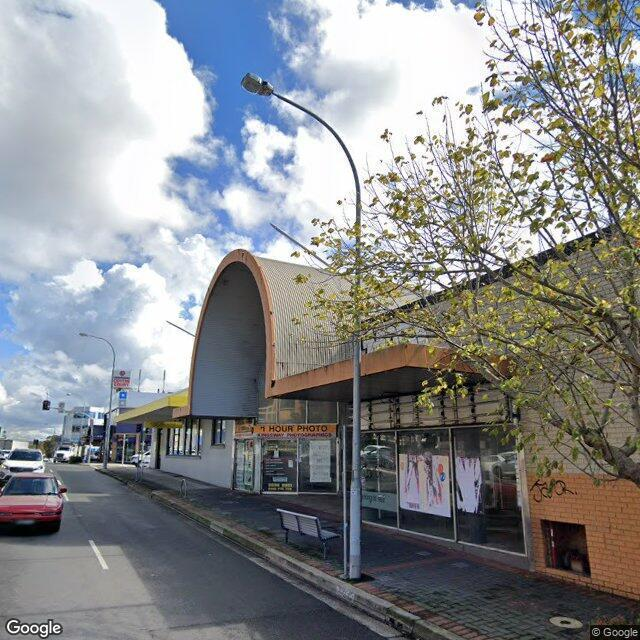steel-pole: (349, 206, 363, 581), (103, 368, 115, 469), (85, 418, 93, 466), (80, 404, 86, 444)
streetlight: (238, 72, 361, 208), (78, 333, 116, 368), (67, 392, 86, 404)
traffic-light: (42, 400, 52, 412)
